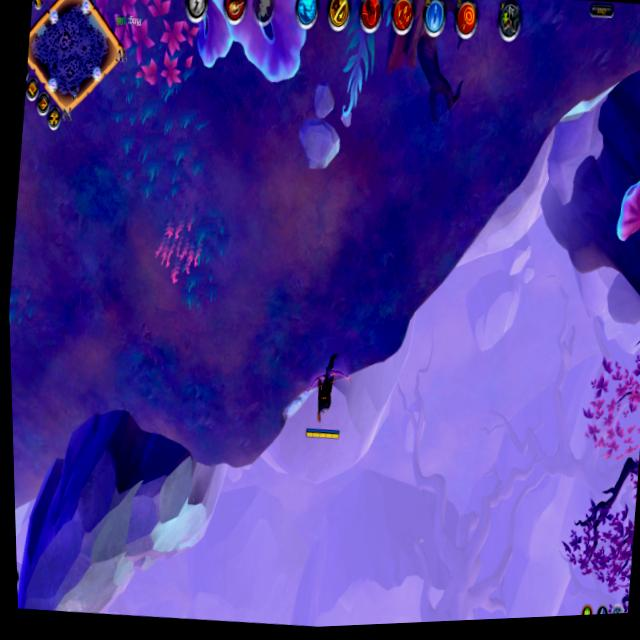red: (300, 348, 353, 449)
